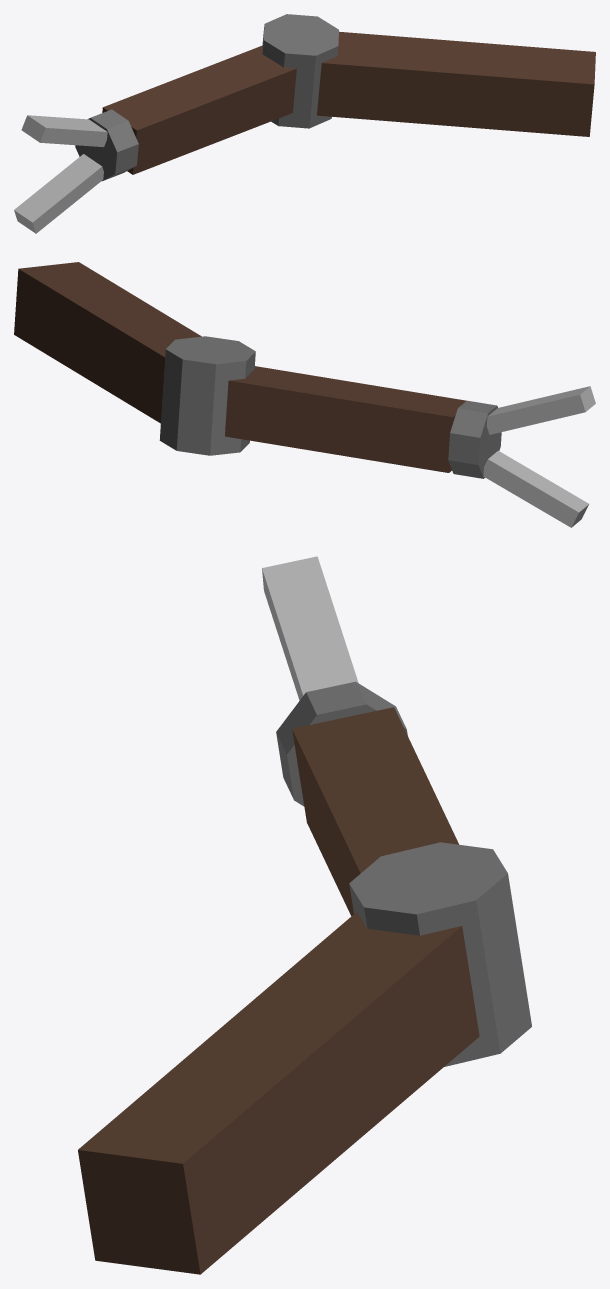
File: RobotArm.fbx
3 views of the same model, one above another, from view 1: azimuth 30°, elevation 25°; view 2: azimuth 150°, elevation 25°; view 3: azimuth 270°, elevation 25° (orthographic). The views are drawn at different scales.
Visible parts, largest first — view 1: PilaBasura_Grande.001; view 2: PilaBasura_Grande.001; view 3: PilaBasura_Grande.001.
Boxes of the visible parts, left/top/right/bottom form: PilaBasura_Grande.001: left=14, top=14, right=595, bottom=233; PilaBasura_Grande.001: left=14, top=262, right=595, bottom=527; PilaBasura_Grande.001: left=78, top=556, right=531, bottom=1274.
Bounding box in the file's own units: 1.31 × 0.2681 × 0.4763.
